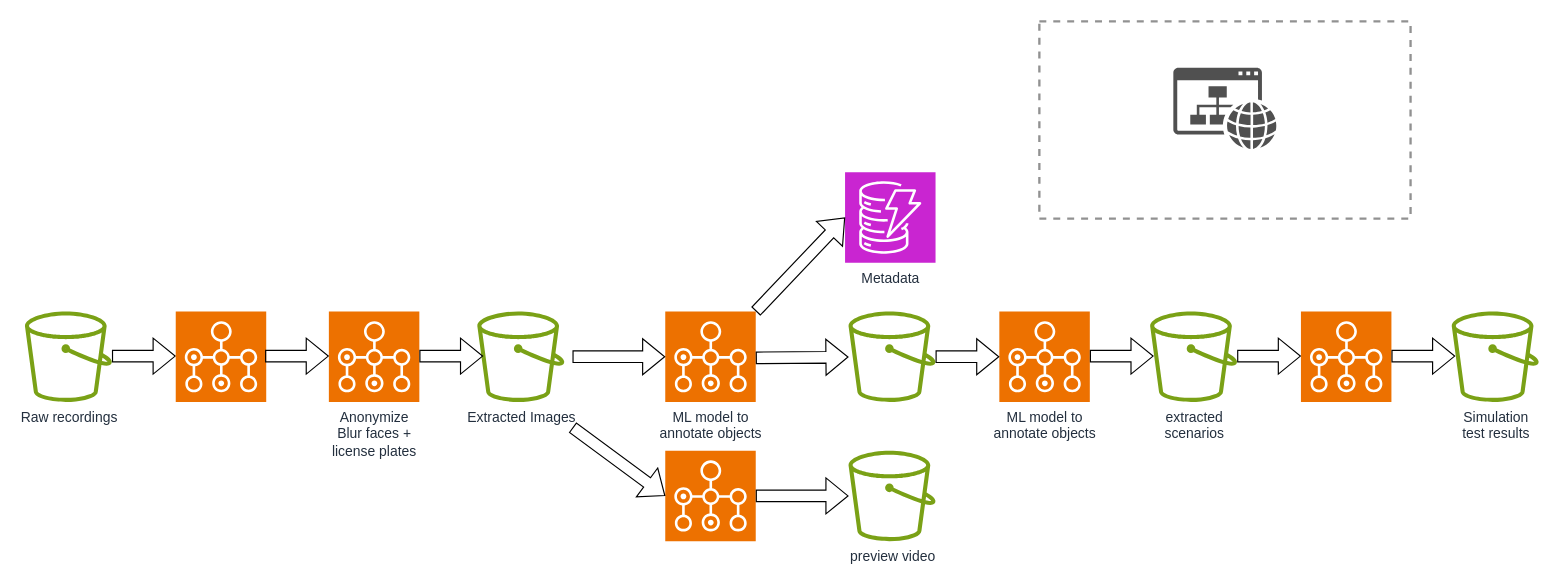
Some shapes in this 1558 by 585 pixel diagram are drawn without their labels. The shapes that lost their labels are listed below. From the top down, each one's centre as x and y in pixels, then its label:
the point at 1224,107: Webapp to visualize preview + metadata
the point at 220,356: Script to extract images
the point at 891,356: Annotated images + Metadata
the point at 1345,356: Simulation run of all the scenarios including variations
the point at 710,495: create video preview
